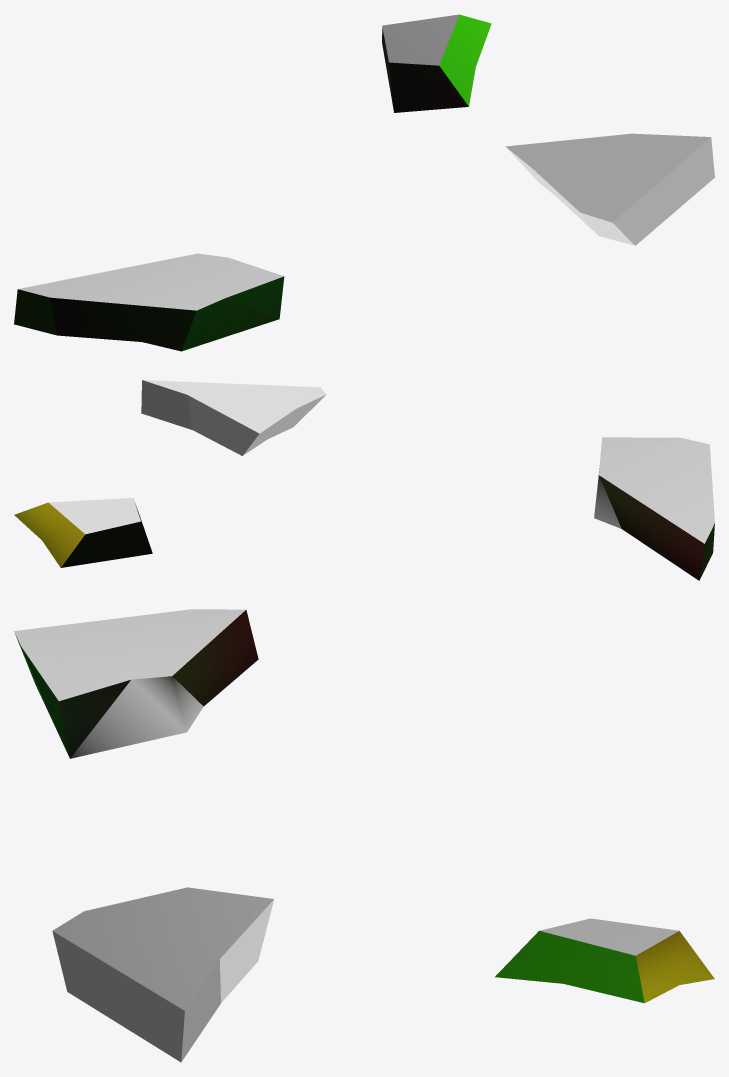
File: Part_3_Roof Piece_12.fbx
The picture shows the model from 3 angles, top to bottom: view 1: azimuth 30°, elevation 25°; view 2: azimuth 150°, elevation 25°; view 3: azimuth 270°, elevation 25°; orthographic projection. The views are drawn at different scales.
Parts seen in each view (by area): view 1: Part_3_Roof Piece_12; view 2: Part_3_Roof Piece_12; view 3: Part_3_Roof Piece_12.
Part boxes in pixels (x1,y1,x2,y2): Part_3_Roof Piece_12: (14,14,714,351); Part_3_Roof Piece_12: (14,380,714,580); Part_3_Roof Piece_12: (14,609,714,1062).
Bounding box in the file's own units: 25.01 × 2.43 × 18.01.
